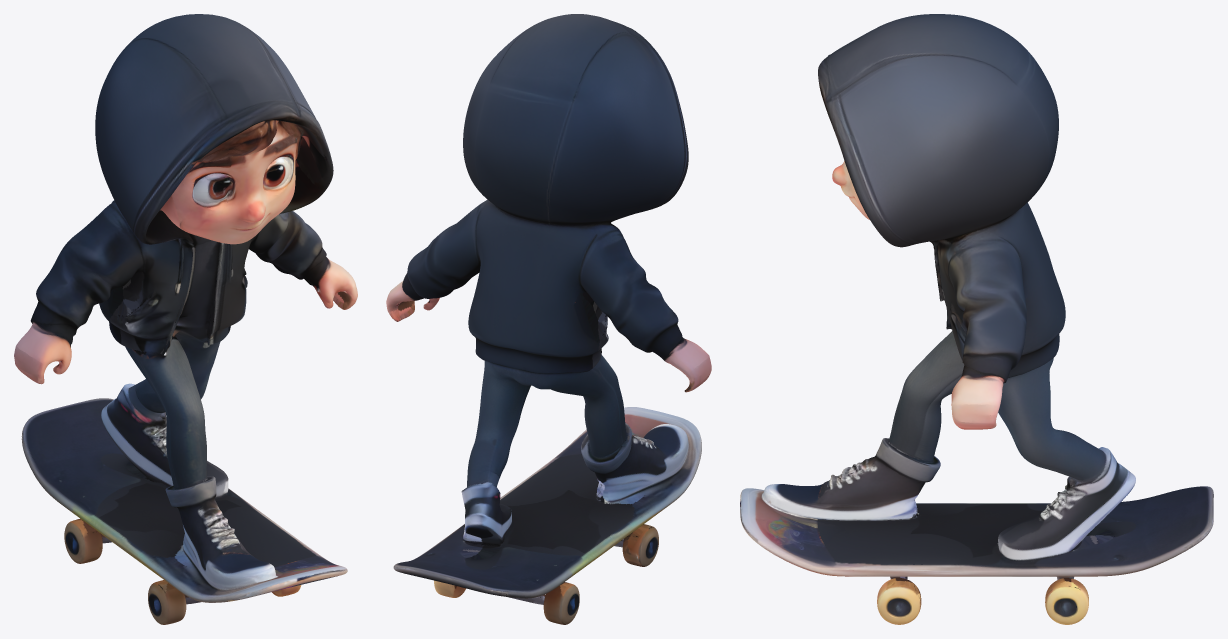
File: player_game.glb
The picture shows the model from 3 angles, left to right: view 1: azimuth 30°, elevation 25°; view 2: azimuth 150°, elevation 25°; view 3: azimuth 270°, elevation 25°; orthographic projection. The views are drawn at different scales.
Parts seen in each view (by area): view 1: model; view 2: model; view 3: model.
Part boxes in pixels (x1,y1,x2,y2): model: (14, 14, 357, 624); model: (386, 14, 711, 624); model: (740, 14, 1213, 624).
Bounding box in the file's own units: 1.15 × 1.9 × 1.43.
Materials: 1 (1 with a texture image).
